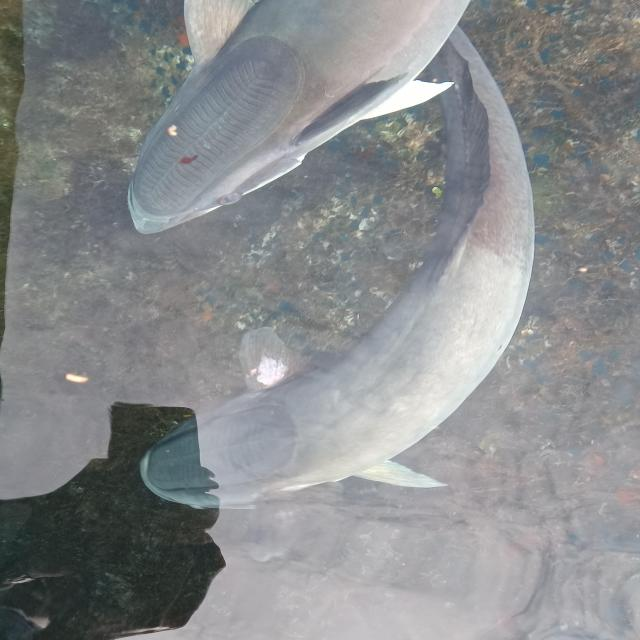ikan: (133, 3, 536, 511), (125, 0, 471, 235)
